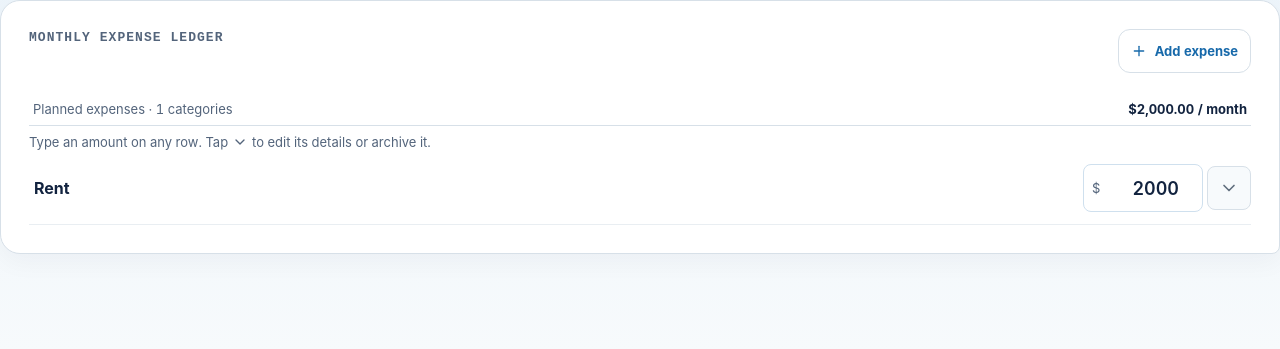
Test: clearing a field › expense ledger › clears the group without raising a save error
Click the button named "Category, cadence, and order for Rent": click(1229, 188) [1207,166,1251,210]
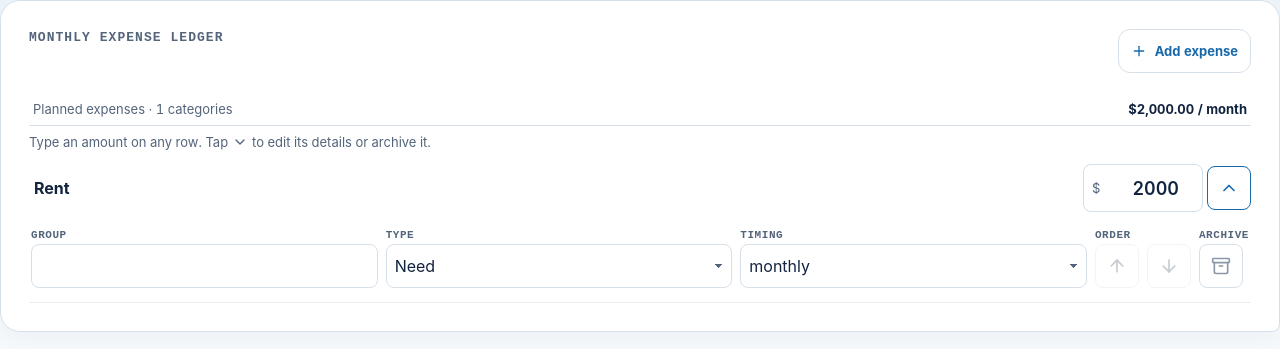
Clear the field labelled "Group": (204, 266) [31,244,378,288]
Leave the field labelled "Group", box [31,244,378,288]
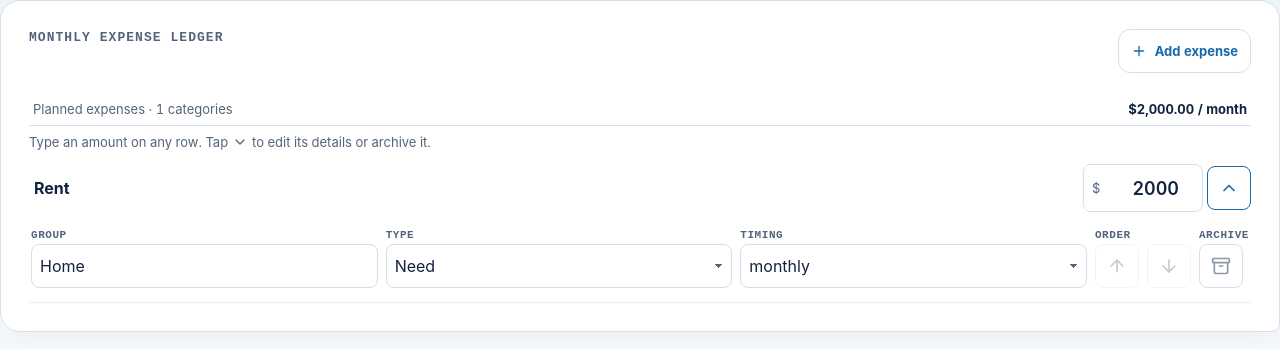
expect the field labelled "Group" holds "Home": met, box [31,244,378,288]
